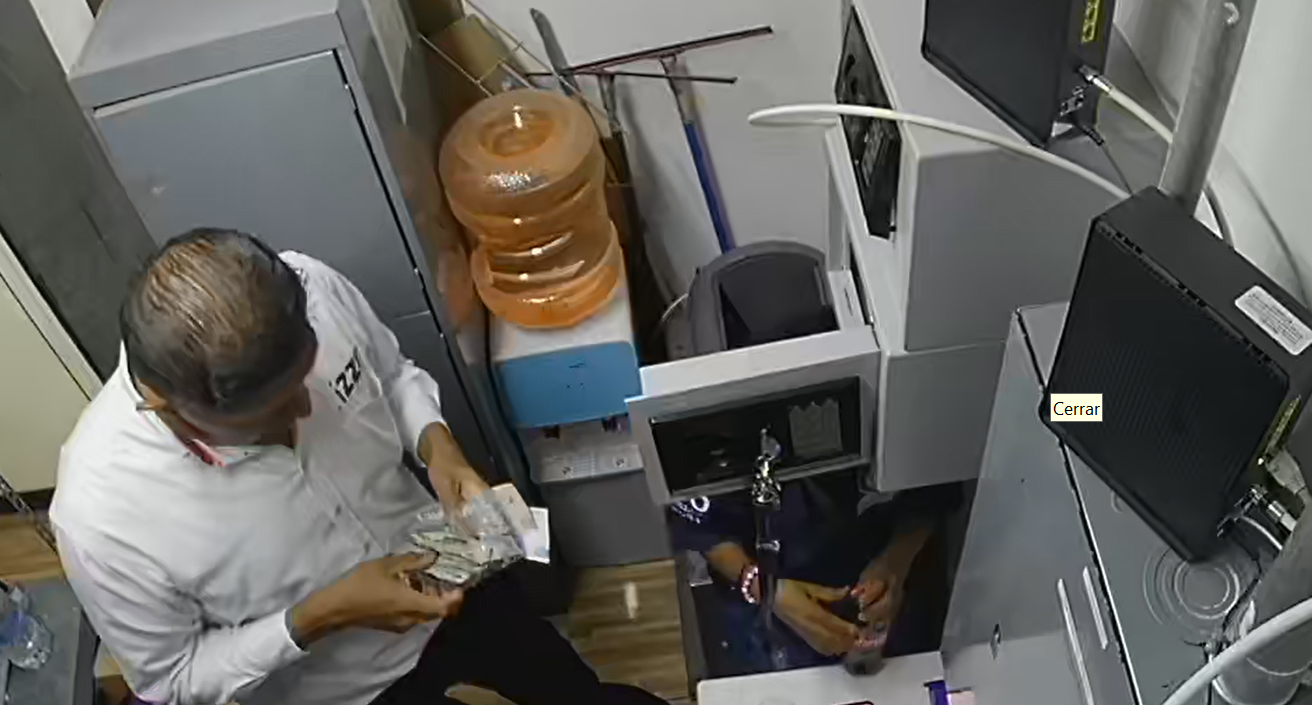llaves: (676, 319, 872, 673)
